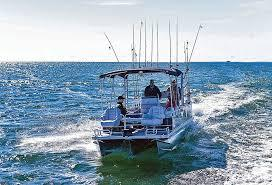fishing boat: (91, 19, 199, 160)
